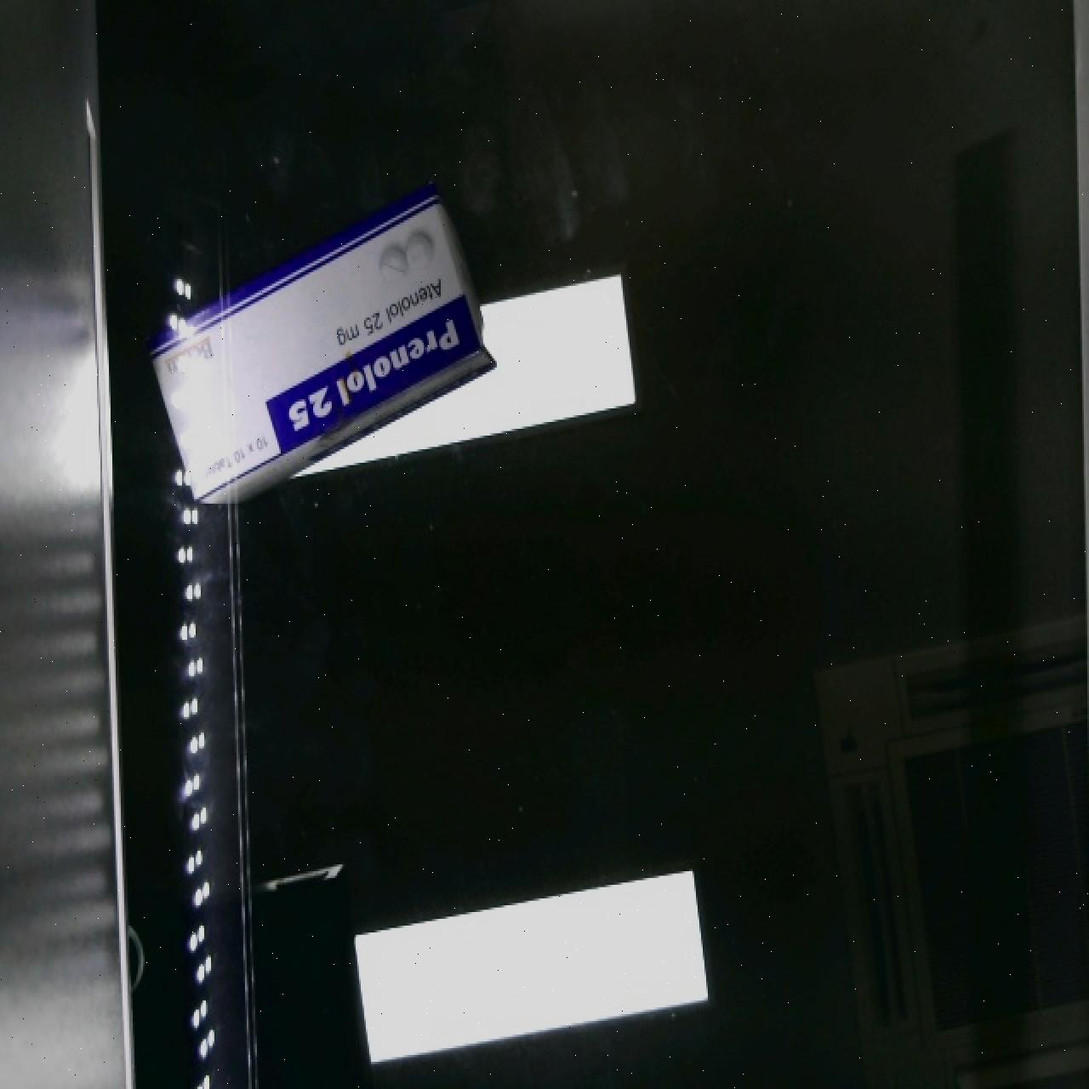medicine_label_obb: (255, 291, 482, 455)
